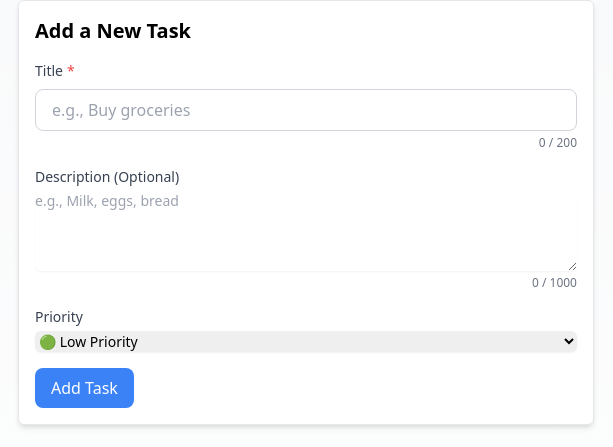
CreateTaskForm › displays character counter for title and description
The image size is (613, 447).
Type "Test Title" into the field labelled "Title*" at (306, 110), box [35,89,577,131]
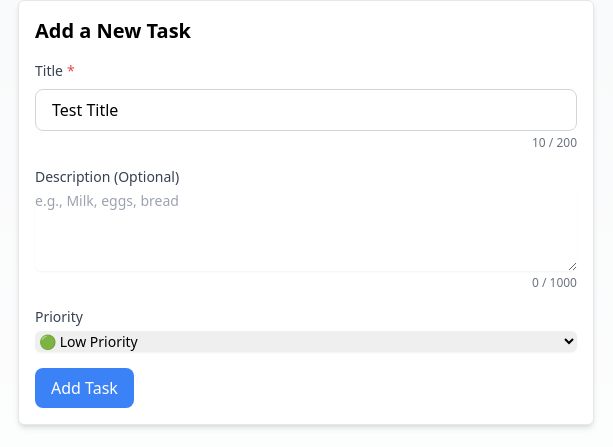
expect the text "10 / 200" is shown: met, box [532,134,577,151]
Type "Test Description" into the text box labelled "Description (Optional)" at (306, 231), box [35,191,577,271]
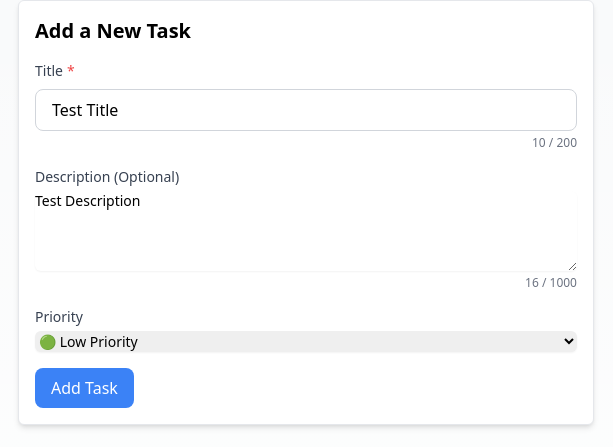
expect the text "16 / 1000" is shown: met, box [525,274,577,291]
